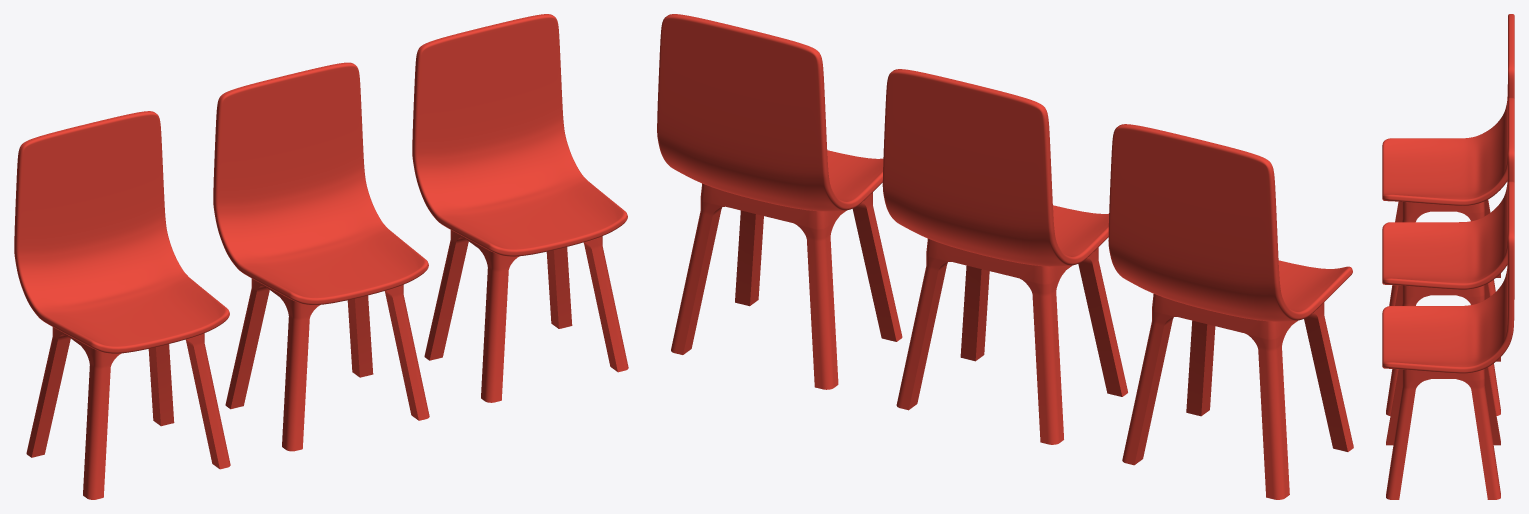
File: chair.fbx
3 views of the same model, side by side, from view 1: azimuth 30°, elevation 25°; view 2: azimuth 150°, elevation 25°; view 3: azimuth 270°, elevation 25° (orthographic). The views are drawn at different scales.
Parts seen in each view (by area): view 1: Chair Black, Chair Blue, Chair Red; view 2: Chair Blue, Chair Black, Chair Red; view 3: Chair Red, Chair Black, Chair Blue.
Part boxes in pixels (x1,y1,x2,y2): Chair Black: (213, 62, 429, 451); Chair Blue: (14, 111, 230, 499); Chair Red: (412, 14, 628, 402); Chair Blue: (1108, 124, 1353, 499); Chair Black: (882, 69, 1127, 444); Chair Red: (657, 14, 902, 389); Chair Red: (1382, 181, 1514, 499); Chair Black: (1382, 97, 1514, 415); Chair Blue: (1382, 14, 1514, 305).
Size of the model in its own units: 165 by 88.23 by 40.01.
